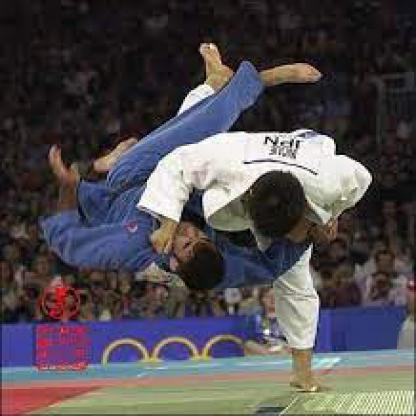Fall_Down: (44, 60, 326, 292)
